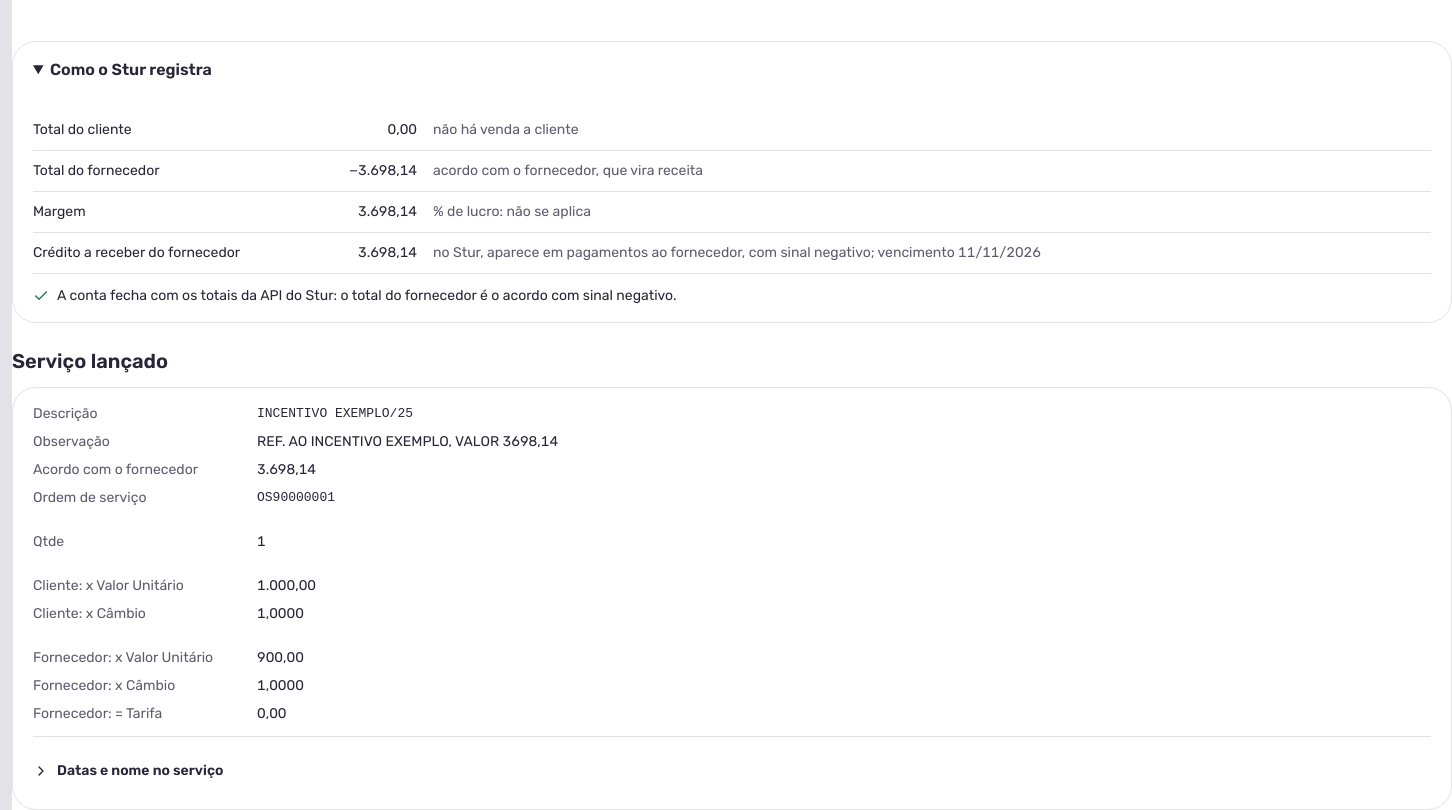
Test: Serviço lançado › os pares do serviço e os campos de datas e nome recolhidos
(page scrolled)
Expected: the heading "Serviço lançado" is shown, [12,349,168,373]
Expected: the text "INCENTIVO EXEMPLO/25" is shown, [257,406,413,421]
Click the heading "Datas e nome no serviço": (128, 770) [33,762,223,779]
(page scrolled)
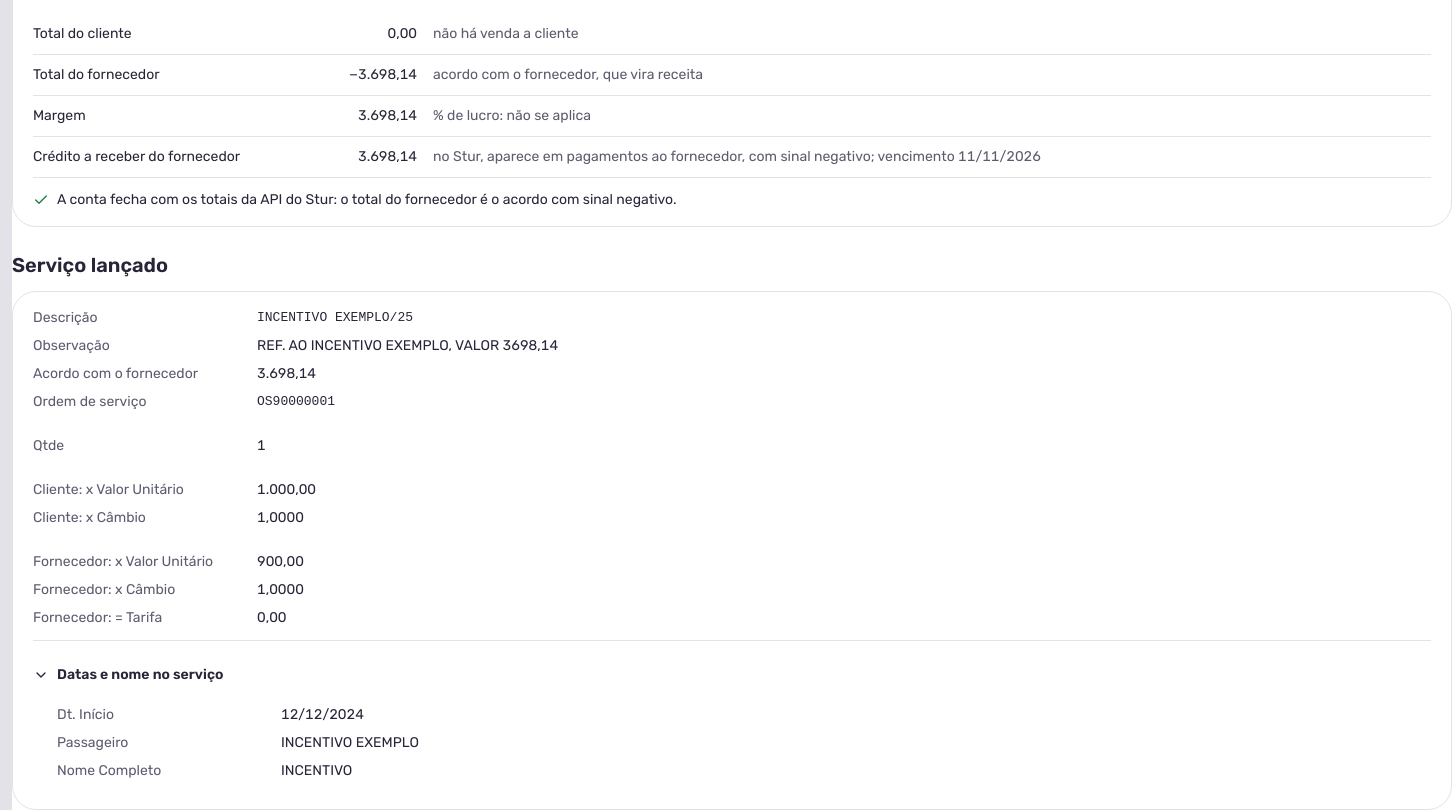
Result: the text "12/12/2024" is shown at [281,706,364,723]
Result: the text "INCENTIVO EXEMPLO" is shown at [281,734,419,751]
